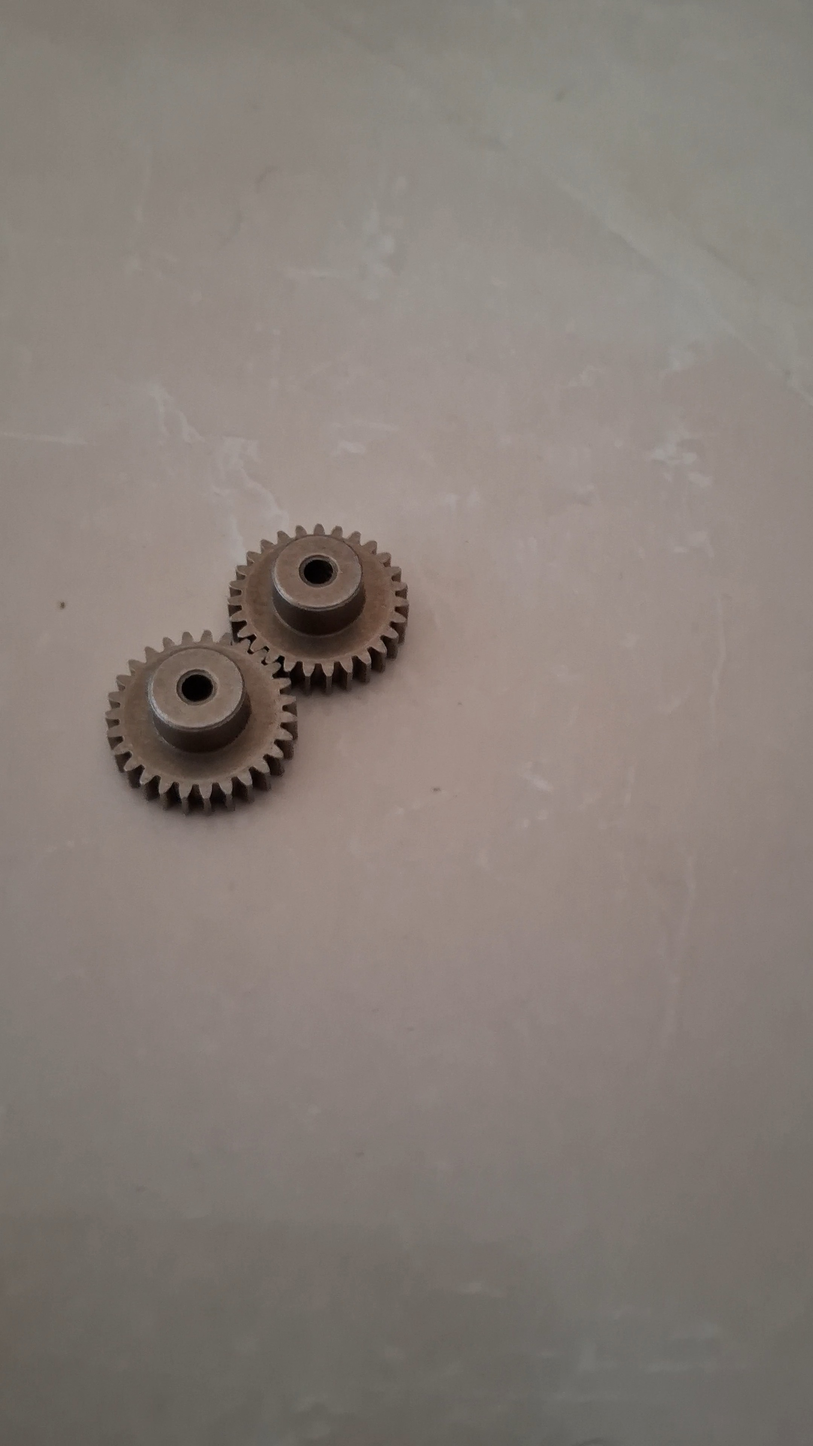spur gear: (142, 642, 329, 821), (269, 543, 447, 708)
